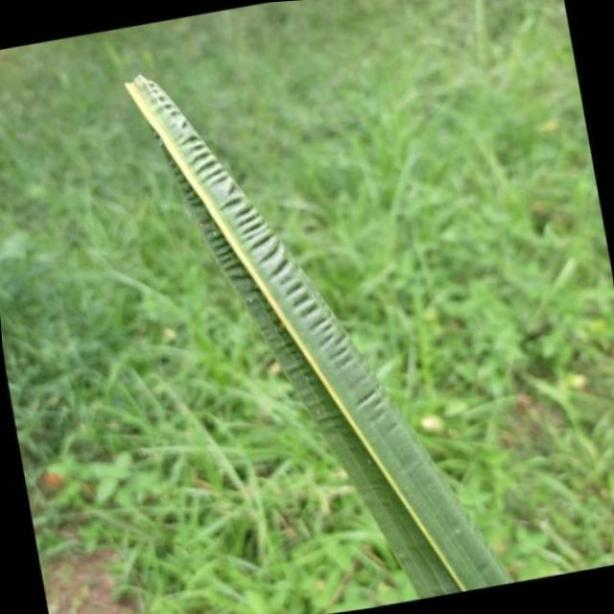Boron: (120, 68, 512, 592)
